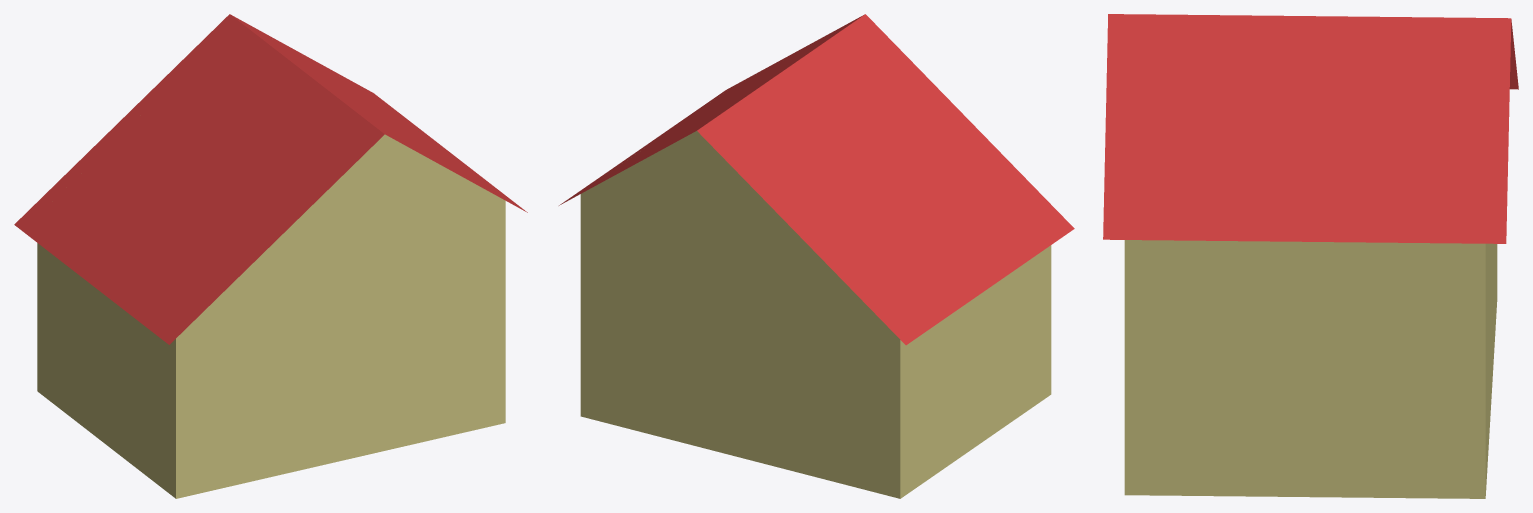
The picture shows the model from 3 angles, left to right: view 1: azimuth 30°, elevation 25°; view 2: azimuth 150°, elevation 25°; view 3: azimuth 270°, elevation 25°; orthographic projection. The views are drawn at different scales.
Size of the model in its own units: 12.24 by 9.81 by 10.51.
